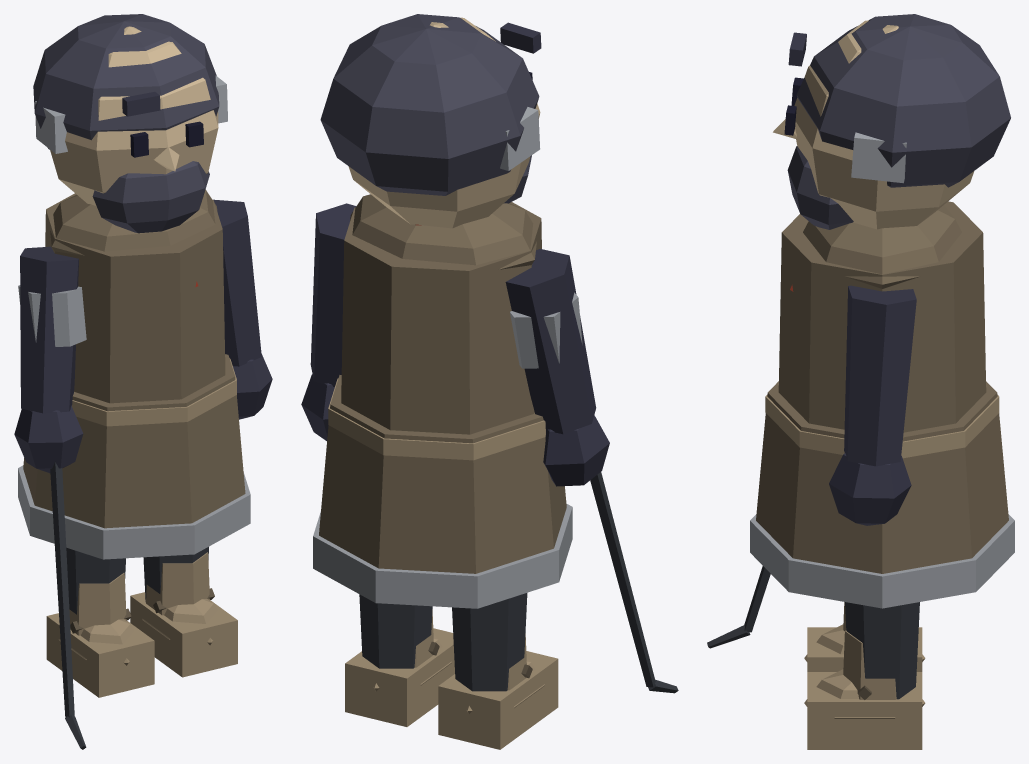
The model's file is ottie.glb.
The picture shows the model from 3 angles, left to right: view 1: azimuth 30°, elevation 25°; view 2: azimuth 150°, elevation 25°; view 3: azimuth 270°, elevation 25°; orthographic projection. The views are drawn at different scales.
Parts seen in each view (by area): view 1: Torso, Head, ArmR, LegR, LegL, ArmL; view 2: Torso, Head, ArmR, LegR, LegL, ArmL; view 3: Torso, Head, ArmL, LegL, LegR, ArmR.
Part boxes in pixels (left/top/right/bottom): Torso: left=18, top=189, right=250, bottom=559; Head: left=33, top=14, right=227, bottom=233; ArmR: left=14, top=246, right=86, bottom=749; LegR: left=46, top=547, right=154, bottom=697; LegL: left=130, top=547, right=237, bottom=677; ArmL: left=213, top=199, right=272, bottom=419; Torso: left=313, top=194, right=572, bottom=608; Head: left=320, top=14, right=541, bottom=228; ArmR: left=505, top=248, right=678, bottom=693; LegR: left=438, top=593, right=558, bottom=749; LegL: left=345, top=594, right=454, bottom=726; ArmL: left=301, top=203, right=356, bottom=440; Torso: left=750, top=201, right=1014, bottom=608; Head: left=773, top=14, right=1010, bottom=229; ArmL: left=829, top=285, right=916, bottom=525; LegL: left=804, top=602, right=925, bottom=749; LegR: left=804, top=602, right=925, bottom=671; ArmR: left=707, top=566, right=770, bottom=648.
Bounding box in the file's own units: 0.7407 × 1.73 × 0.6973.
